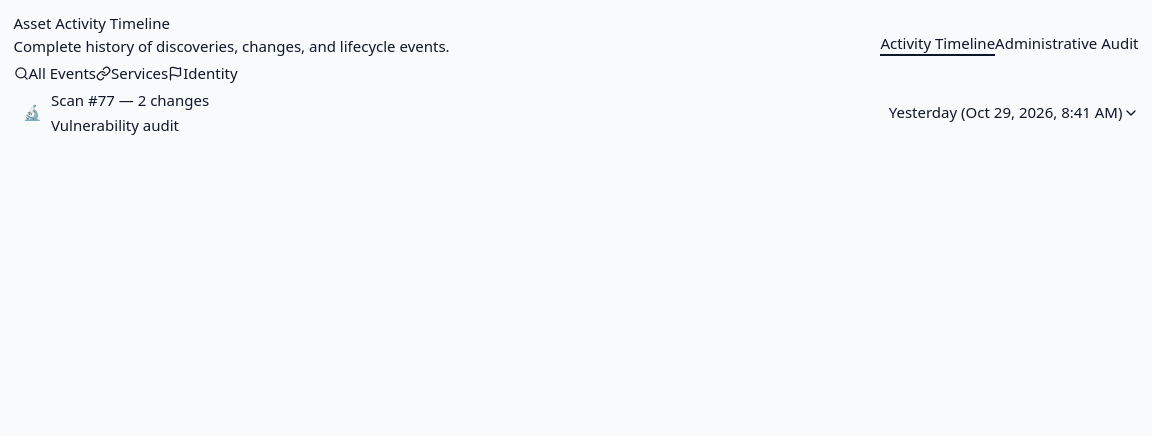
it: AuditTimeline — activity view › toggles technical details with an expanded state
What coordinates should you click on to do the following:
click the button "Scan #77"
I would click on:
 (130, 100)
Its box is [14,89,1138,136].
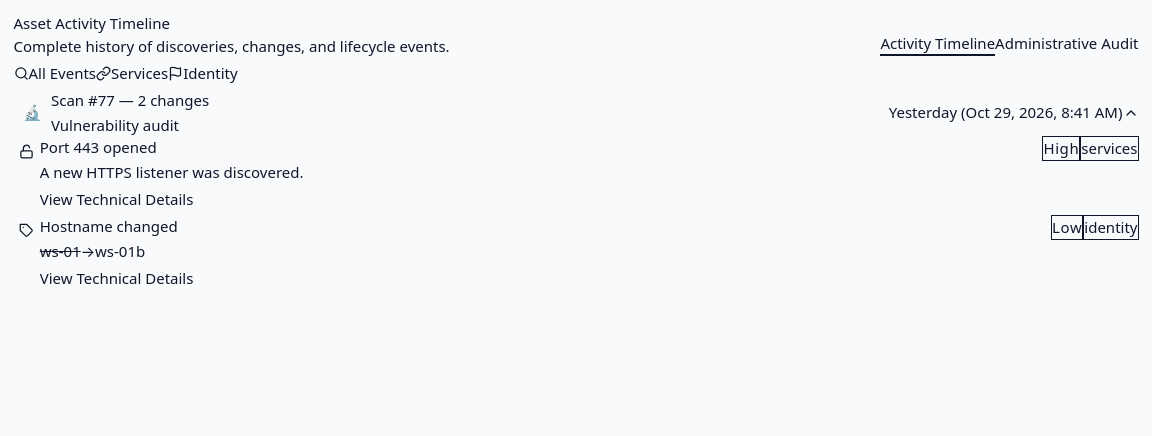
What coordinates should you click on to do the following:
click the button "View Technical Details" below "A new HTTPS listener was discovered."
I would click on:
 (117, 199)
Its box is [40,183,193,215].
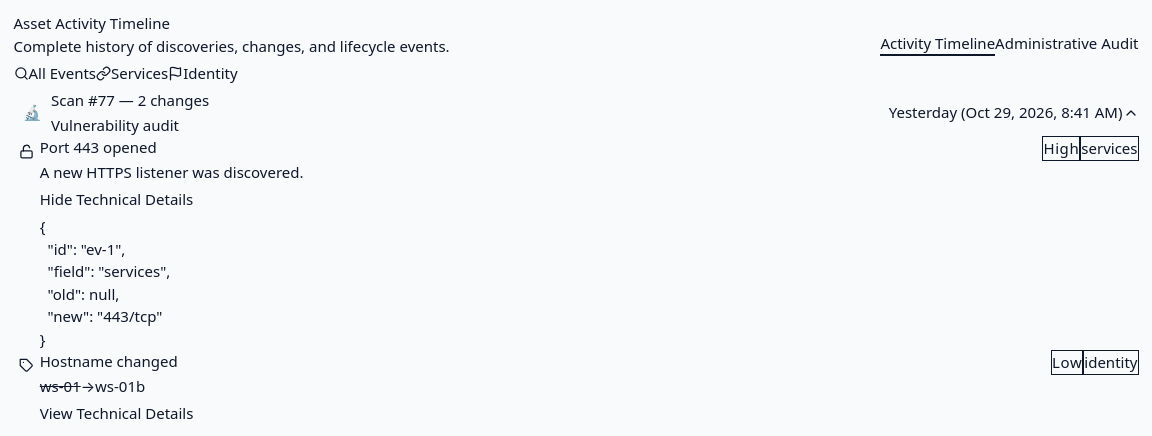
Expected: the button "Hide Technical Details" is expanded, [40,183,193,215]
Expected: the text "\"new\": \"443/tcp\"" is shown, [40,216,170,348]
